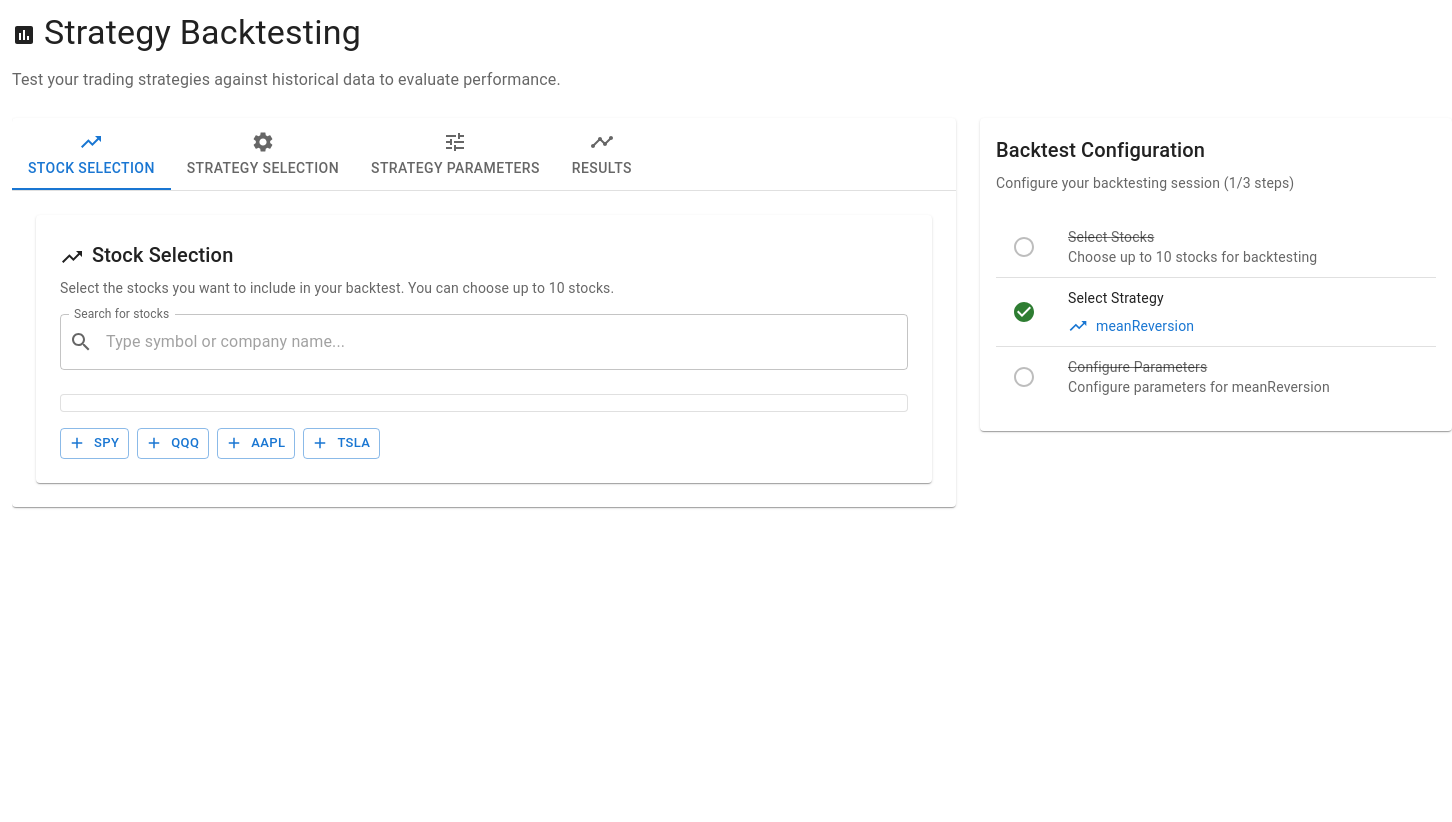
it: Backtesting Sentiment Strategy › shows SentimentAnalysis option in strategy selection
// Switch to Strategy Selection tab
What coordinates should you click on to do the following:
click the tab "Strategy Selection"
I would click on:
 (263, 154)
Its box is x1=171 y1=118 x2=355 y2=190.
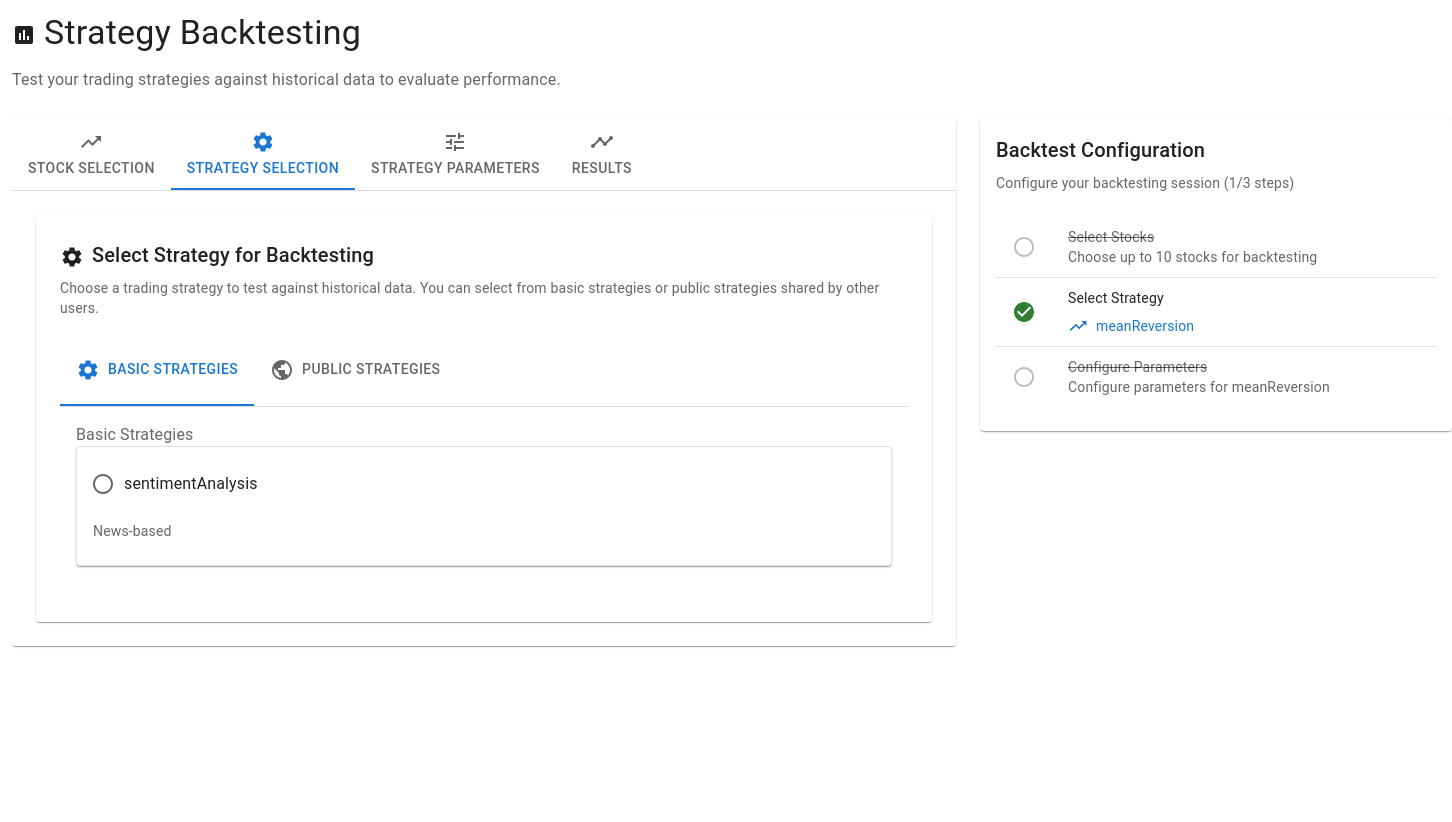
Check: the radio button labelled "sentimentAnalysis" is shown, box x1=91 y1=472 x2=258 y2=496
